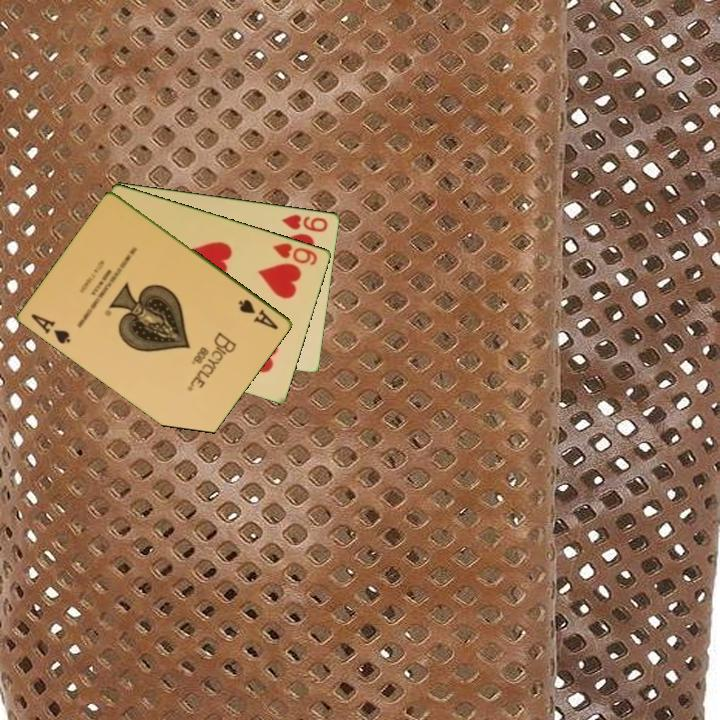6h: (269, 239, 320, 268)
9h: (279, 211, 331, 235)
As: (235, 295, 281, 333), (28, 310, 74, 347)
